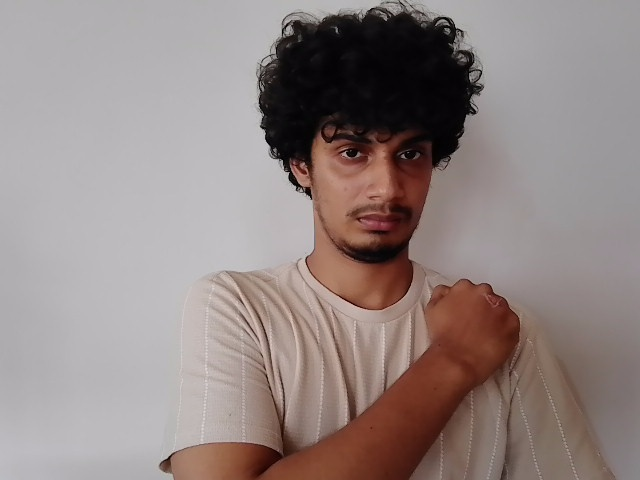sorry: (371, 263, 583, 427)
